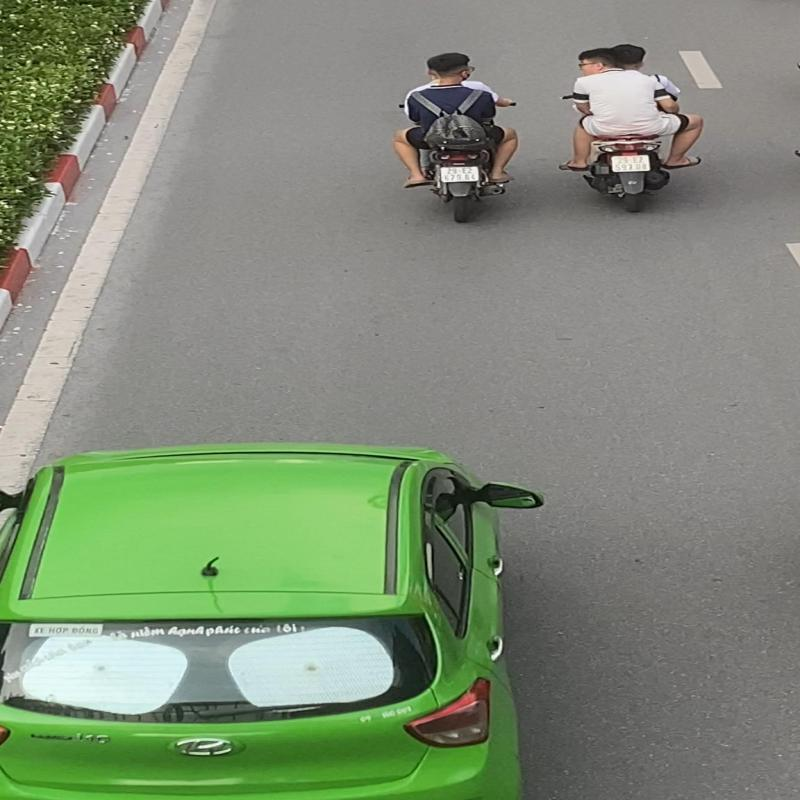licenseplate: (438, 165, 480, 184), (610, 154, 651, 172)
motorcyclist: (561, 44, 706, 214), (390, 48, 526, 224)
nohelmet: (433, 53, 471, 81), (576, 49, 620, 72), (614, 44, 646, 71)
